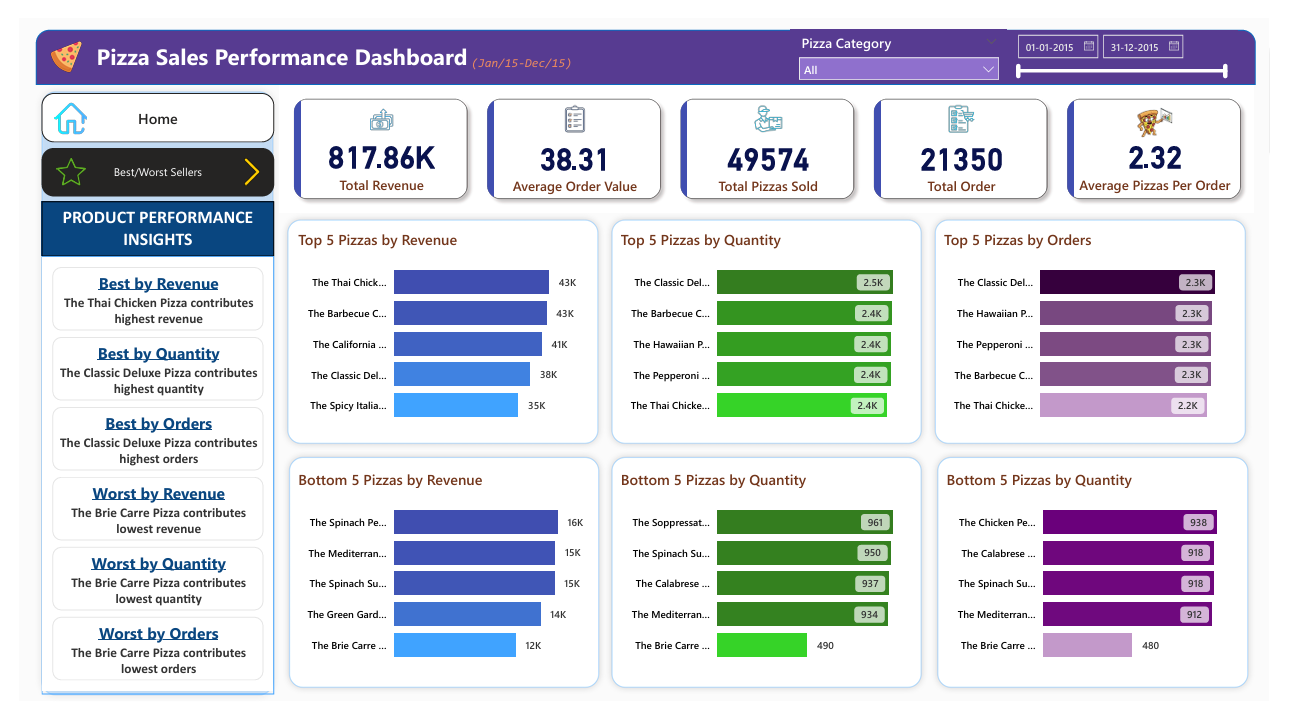

Layout of this report page (visuals, bound fields, positions):
{"tool":"powerbi","page":{"name":"Best/Worst Sellers","canvas":[1500,820],"ordinal":1},"visuals":[{"type":"cardVisual","fields":{"Data":["pizza_sales.Total_Revenue","pizza_sales.Avg_Order_Value","pizza_sales.Total_Pizzas_Sold","pizza_sales.Total_Order","pizza_sales.Avg_Pizzas_Per_Order"]},"box":[312,79.4,1169.8,153.2],"z":0},{"type":"shape","box":[18.6,12.9,1464.3,65.7],"z":1000},{"type":"textbox","box":[75.2,20.9,479.1,50.1],"z":2000},{"type":"textbox","box":[529.2,39,146.2,32],"z":3000},{"type":"image","box":[36.2,23.7,39,43.2],"z":4000},{"type":"shape","box":[313.4,232.6,388.6,285.5],"z":5000},{"type":"shape","box":[18.1,79.4,293.9,740.9],"z":6000},{"type":"textbox","box":[26.5,218.6,278.5,66.8],"z":7000},{"type":"shape","box":[701.9,232.6,388.6,285.5],"z":8000},{"type":"shape","box":[1090.5,232.6,388.6,285.5],"z":9000},{"type":"shape","box":[314.7,518.1,388.6,292.5],"z":10000},{"type":"shape","box":[701.9,518.1,388.6,292.5],"z":11000},{"type":"shape","box":[1093.2,518.1,388.6,292.5],"z":12000},{"type":"barChart","title":"Top 5 Pizzas by Revenue","fields":{"Category":["pizza_sales.pizza_name"],"Y":["pizza_sales.Total Revenue"]},"box":[328.7,252.1,360.7,247.9],"z":13000},{"type":"barChart","title":"Bottom 5 Pizzas by Revenue","fields":{"Category":["pizza_sales.pizza_name"],"Y":["pizza_sales.Total Revenue"]},"box":[328.7,540.4,360.7,247.9],"z":14000},{"type":"barChart","title":"Top 5 Pizzas by Quantity","fields":{"Category":["pizza_sales.pizza_name"],"Y":["pizza_sales.Total Pizza's Sold"]},"box":[715.8,252.1,360.7,247.9],"z":15000},{"type":"barChart","title":"Bottom 5 Pizzas by Quantity","fields":{"Category":["pizza_sales.pizza_name"],"Y":["pizza_sales.Total Pizza's Sold"]},"box":[715.8,540.4,360.7,247.9],"z":16000},{"type":"barChart","title":"Top 5 Pizzas by Orders","fields":{"Category":["pizza_sales.pizza_name"],"Y":["pizza_sales.Total Order"]},"box":[1104.4,252.1,360.7,247.9],"z":17000},{"type":"barChart","title":"Bottom 5 Pizzas by Quantity","fields":{"Category":["pizza_sales.pizza_name"],"Y":["pizza_sales.Total Order"]},"box":[1107.2,540.4,360.7,247.9],"z":18000},{"type":"slicer","fields":{"Values":["pizza_sales.pizza_category"]},"box":[924.7,12.5,260.4,62.7],"z":19000},{"type":"slicer","fields":{"Values":["pizza_sales.order_date"]},"box":[1185.2,13.9,277.1,62.7],"z":20000},{"type":"pageNavigator","box":[26.5,154.6,278.5,58.5],"z":21000},{"type":"pageNavigator","box":[26.5,89.1,278.5,58.5],"z":22000},{"type":"image","box":[261.8,165.7,33.4,34.8],"z":23000},{"type":"image","box":[36.2,100.3,50.1,39],"z":24000},{"type":"image","box":[40.4,165.7,41.8,34.8],"z":25000},{"type":"cardVisual","fields":{"Data":["pizza_sales.Best BY Revenue","pizza_sales.Best by Quantity","pizza_sales.Best by Orders","pizza_sales.Worst by Revenue","pizza_sales.Worst by Quantity","pizza_sales.Worst by Orders"]},"box":[26.5,285.5,278.5,525],"z":26000}]}

Visuals, with their boxes in screenshot pixels (x1, y1, x2, y2), scaled from the page's 1500x820 canvas onto the 1289x723 screenshot:
cardVisual - pizza_sales.Total_Revenue x pizza_sales.Avg_Order_Value: 268 70 1273 205
shape: 16 11 1274 69
textbox: 65 18 476 63
textbox: 455 34 580 63
image: 31 21 65 59
shape: 269 205 603 457
shape: 16 70 268 722
textbox: 23 193 262 252
shape: 603 205 937 457
shape: 937 205 1271 457
shape: 270 457 604 715
shape: 603 457 937 715
shape: 939 457 1273 715
"Top 5 Pizzas by Revenue" barChart: 282 222 592 441
"Bottom 5 Pizzas by Revenue" barChart: 282 476 592 695
"Top 5 Pizzas by Quantity" barChart: 615 222 925 441
"Bottom 5 Pizzas by Quantity" barChart: 615 476 925 695
"Top 5 Pizzas by Orders" barChart: 949 222 1259 441
"Bottom 5 Pizzas by Quantity" barChart: 951 476 1261 695
slicer - pizza_sales.pizza_category: 795 11 1018 66
slicer - pizza_sales.order_date: 1018 12 1257 68
pageNavigator: 23 136 262 188
pageNavigator: 23 79 262 130
image: 225 146 254 177
image: 31 88 74 123
image: 35 146 71 177
cardVisual - pizza_sales.Best BY Revenue x pizza_sales.Best by Quantity: 23 252 262 715
